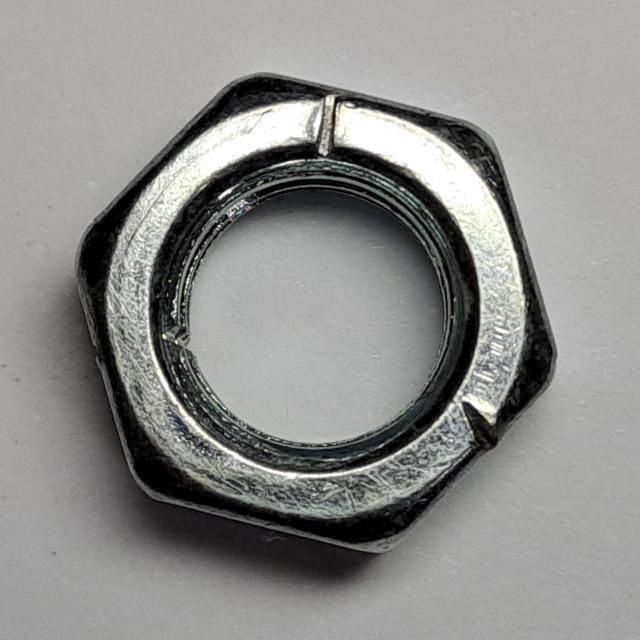Scratches: (66, 66, 564, 564)
